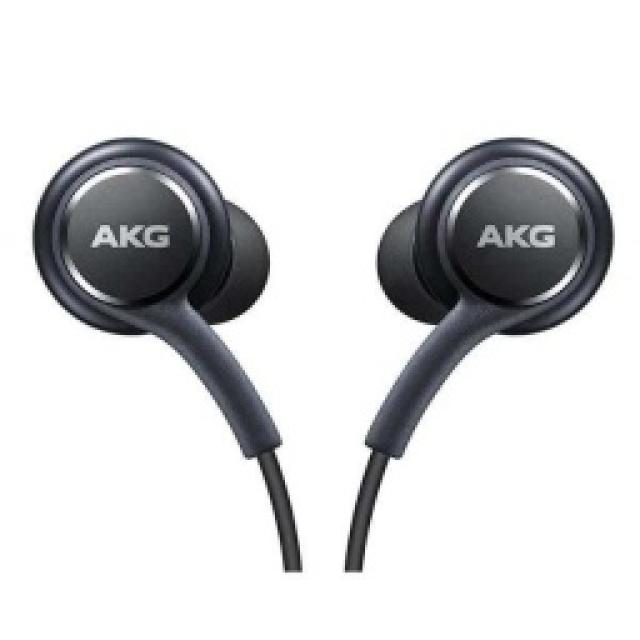headphones: (30, 130, 615, 572)
